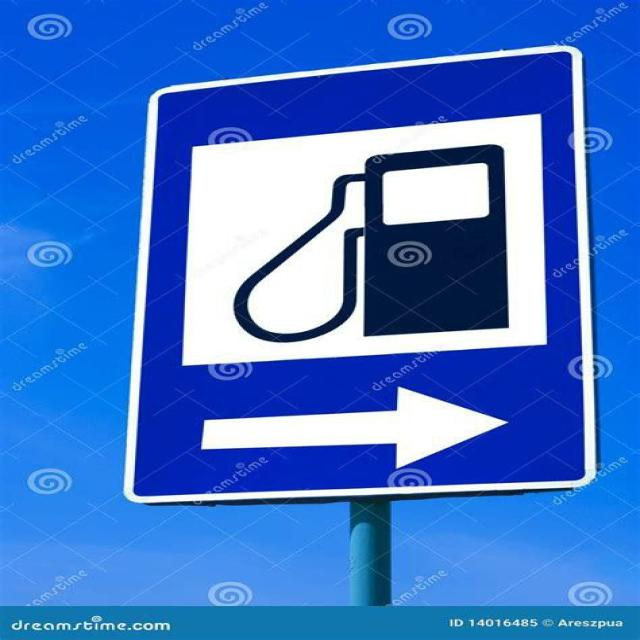petrol_station: (133, 47, 590, 494)
